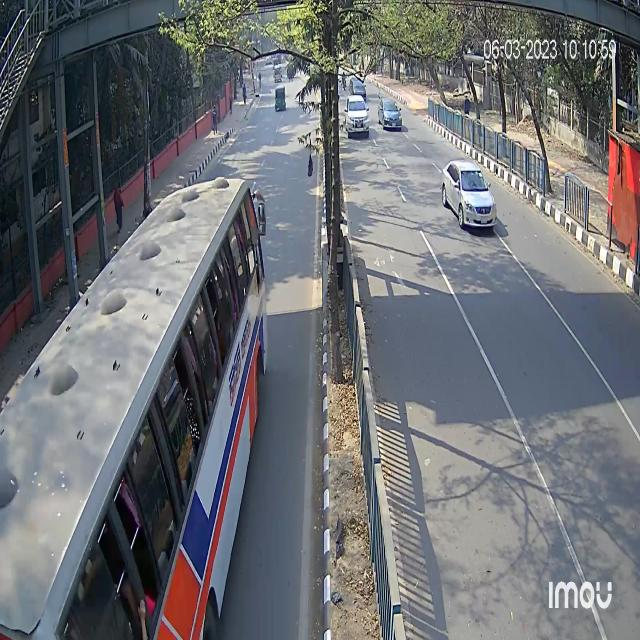cng: (272, 80, 288, 116)
